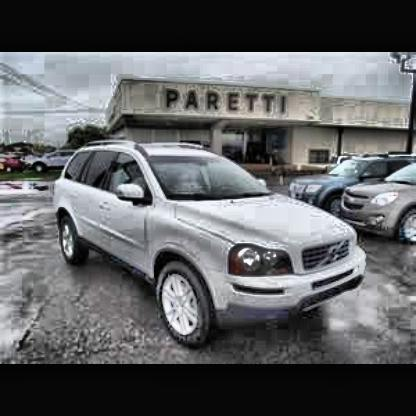Volvo XC90 SUV 2007: (52, 140, 370, 350)
